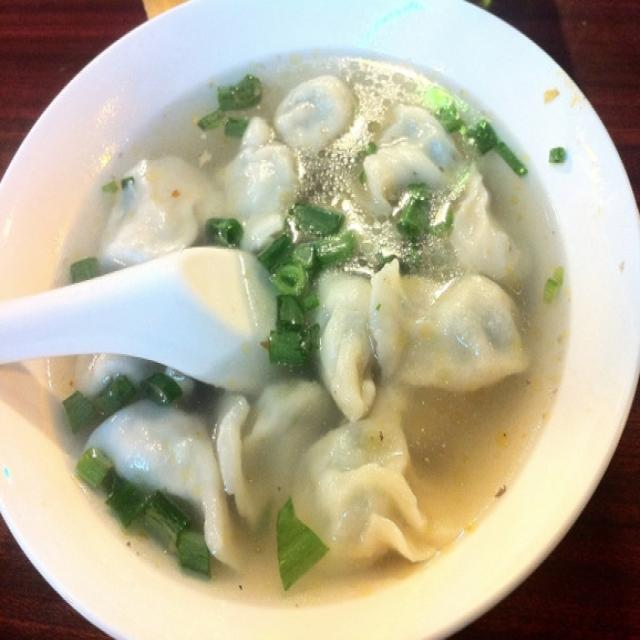带馅早点: (10, 7, 618, 624)
